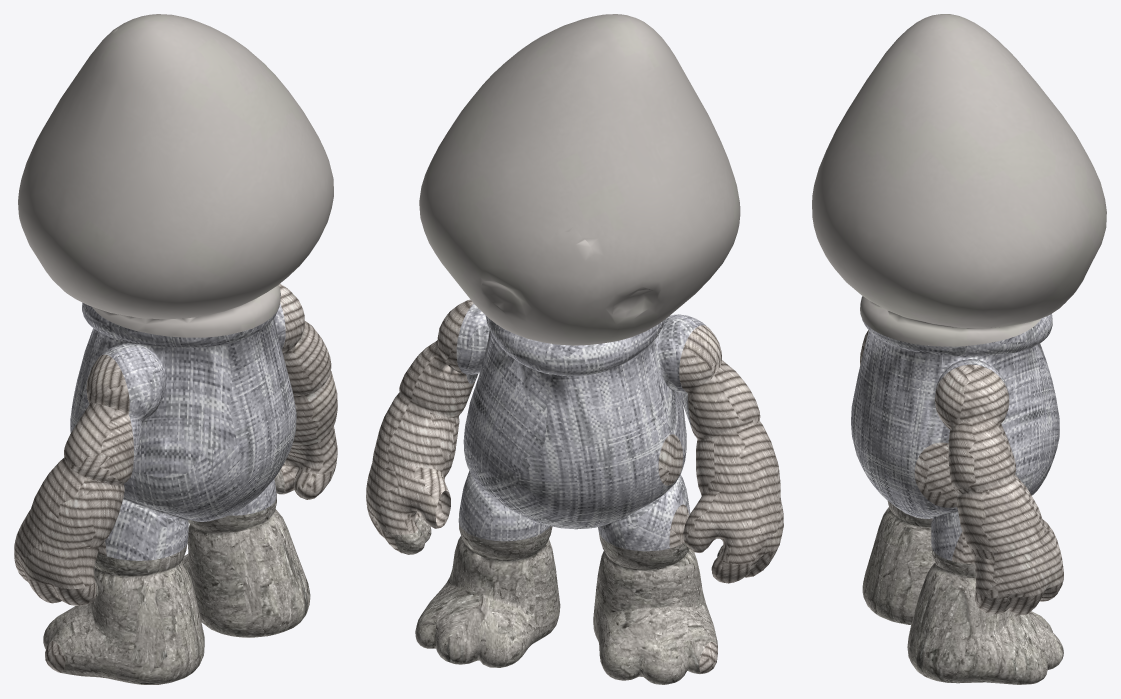
File: 01-seed-pearo--white_3d_character_model.glb
The picture shows the model from 3 angles, left to right: view 1: azimuth 30°, elevation 25°; view 2: azimuth 150°, elevation 25°; view 3: azimuth 270°, elevation 25°; orthographic projection. The views are drawn at different scales.
Visible parts, largest first — view 1: head_mesh, body_mesh, feet_mesh, arms_mesh; view 2: head_mesh, body_mesh, arms_mesh, feet_mesh; view 3: head_mesh, body_mesh, arms_mesh, feet_mesh.
Part boxes in pixels (x1=…): head_mesh: x1=18, y1=14, x2=333, y2=337; body_mesh: x1=70, y1=302, x2=296, y2=560; feet_mesh: x1=43, y1=470, x2=310, y2=684; arms_mesh: x1=14, y1=284, x2=337, y2=672; head_mesh: x1=419, y1=14, x2=740, y2=345; body_mesh: x1=456, y1=303, x2=705, y2=551; arms_mesh: x1=366, y1=299, x2=783, y2=673; feet_mesh: x1=394, y1=514, x2=723, y2=684; head_mesh: x1=812, y1=14, x2=1106, y2=346; body_mesh: x1=851, y1=314, x2=1059, y2=560; arms_mesh: x1=860, y1=330, x2=1063, y2=615; feet_mesh: x1=862, y1=495, x2=1063, y2=684.
Bounding box in the file's own units: 1.77 × 3 × 1.34.
4 materials, 4 textured.
